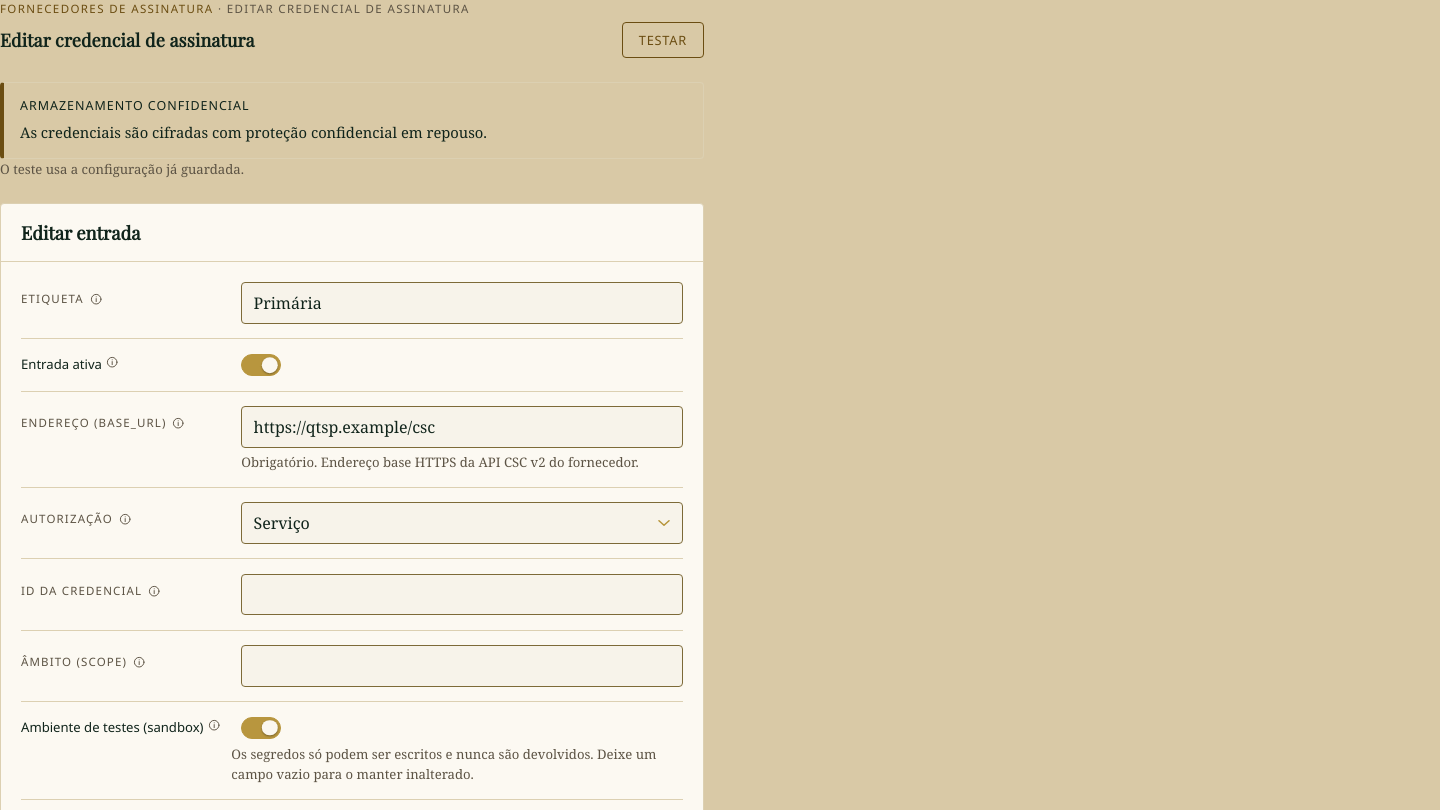
Test case: ProviderCredentialPage › tests the saved exact entry and renders the full structured honesty result
What coordinates should you click on to do the following:
click the button "Testar"
I would click on:
 (663, 40)
Its box is [622, 22, 704, 58].
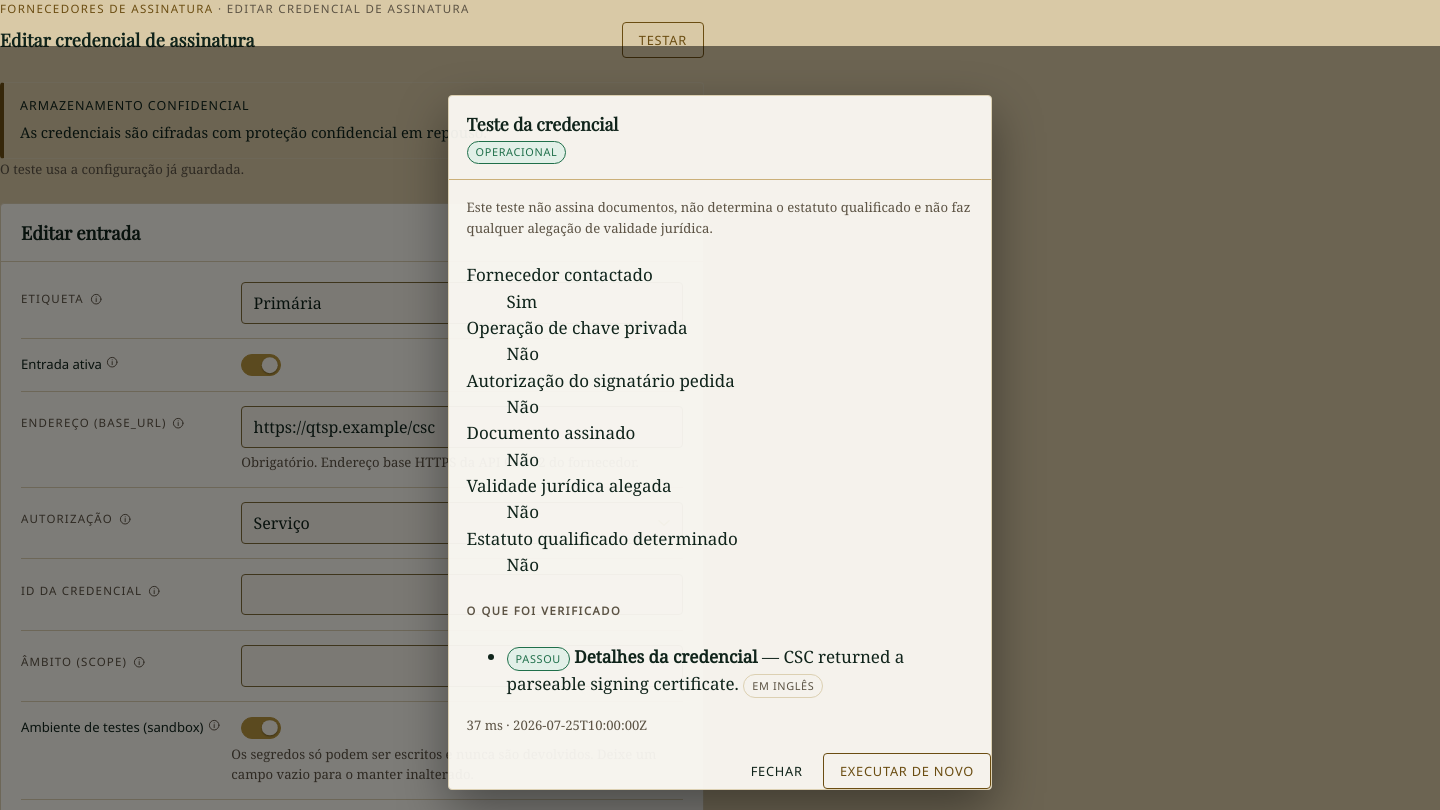
Now the dialog with test id "provider-probe-modal" is shown, box [448, 95, 992, 790]
Now the element with test id "provider-probe-result" is shown, box [467, 198, 973, 736]
Now the text "Sim" is shown, box [507, 290, 537, 312]
